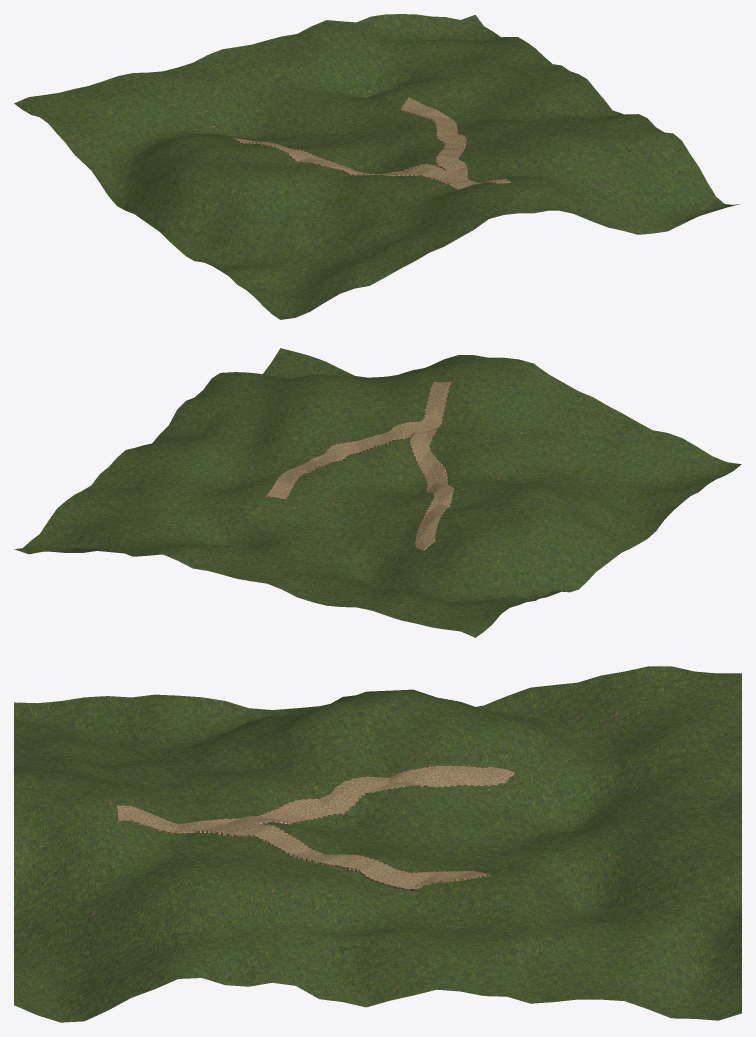
The model's file is Level5B1.fbx.
3 renders of one model, top to bottom at view 1: azimuth 30°, elevation 25°; view 2: azimuth 150°, elevation 25°; view 3: azimuth 270°, elevation 25°, orthographic. The views are drawn at different scales.
Parts seen in each view (by area): view 1: Landscape.002, Plane.001, Plane; view 2: Landscape.002, Plane, Plane.001; view 3: Landscape.002, Plane, Plane.001.
Part boxes in pixels (x1=…): Landscape.002: x1=14, y1=14, x2=739, y2=319; Plane.001: x1=401, y1=97, x2=468, y2=183; Plane: x1=232, y1=137, x2=511, y2=189; Landscape.002: x1=14, y1=348, x2=741, y2=637; Plane: x1=409, y1=381, x2=453, y2=550; Plane.001: x1=265, y1=420, x2=436, y2=500; Landscape.002: x1=14, y1=666, x2=741, y2=1022; Plane: x1=116, y1=765, x2=514, y2=833; Plane.001: x1=191, y1=820, x2=489, y2=890.
Size of the model in its own units: 7767 by 999 by 7767.
